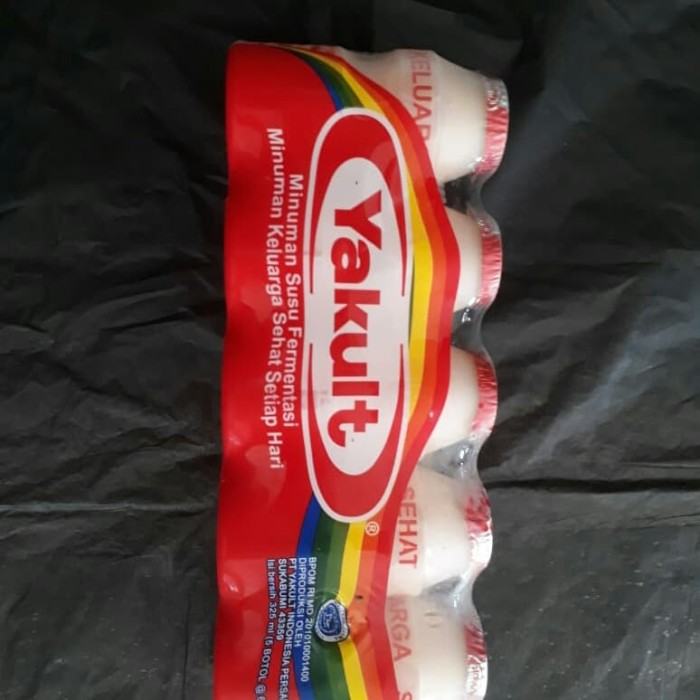Yakult (325ml): (206, 23, 512, 699)
